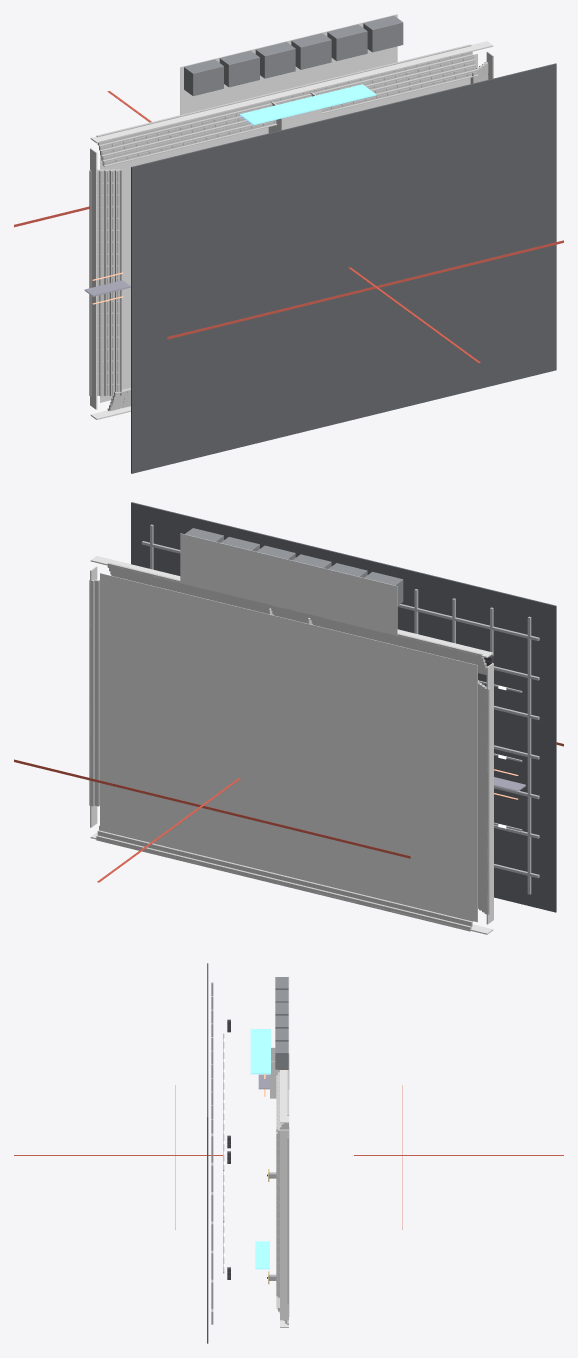
The model's file is stadium.glb.
3 renders of one model, top to bottom at view 1: azimuth 30°, elevation 25°; view 2: azimuth 150°, elevation 25°; view 3: azimuth 270°, elevation 25°, orthographic. The views are drawn at different scales.
Parts seen in each view (by area): view 1: roof, floor, paddock_slab, wall_y_1, video_board_n, wall_x_-1, barrier_n, garage_0, garage_4, garage_3, garage_5, garage_2 (+1 smaller); view 2: floor, roof, paddock_slab, truss_x_-40, wall_x_-1, barrier_s, wall_y_1, truss_y_24, wall_x_1; view 3: wall_x_1, video_board_n, roof, truss_x_40.
Part boxes in pixels (left/top/right/bottom): roof: left=131, top=63, right=556, bottom=473; floor: left=100, top=53, right=477, bottom=402; paddock_slab: left=180, top=14, right=397, bottom=114; wall_y_1: left=90, top=41, right=493, bottom=143; video_board_n: left=240, top=84, right=376, bottom=125; wall_x_-1: left=90, top=148, right=97, bottom=409; barrier_n: left=167, top=240, right=563, bottom=339; garage_0: left=184, top=59, right=223, bottom=95; garage_4: left=327, top=24, right=367, bottom=61; garage_3: left=291, top=33, right=331, bottom=69; garage_5: left=363, top=15, right=403, bottom=52; garage_2: left=255, top=42, right=295, bottom=78; floor: left=100, top=573, right=477, bottom=922; roof: left=131, top=502, right=556, bottom=912; paddock_slab: left=180, top=533, right=397, bottom=635; truss_x_-40: left=527, top=616, right=531, bottom=894; wall_x_-1: left=486, top=663, right=493, bottom=924; barrier_s: left=14, top=759, right=410, bottom=858; wall_y_1: left=90, top=556, right=493, bottom=657; truss_y_24: left=141, top=541, right=539, bottom=640; wall_x_1: left=90, top=566, right=97, bottom=827; wall_x_1: left=280, top=1129, right=288, bottom=1320; video_board_n: left=250, top=1029, right=270, bottom=1074; roof: left=207, top=963, right=208, bottom=1343; truss_x_40: left=211, top=1119, right=213, bottom=1324.
Bounding box in the file's own units: 90.85 × 69 × 136.
